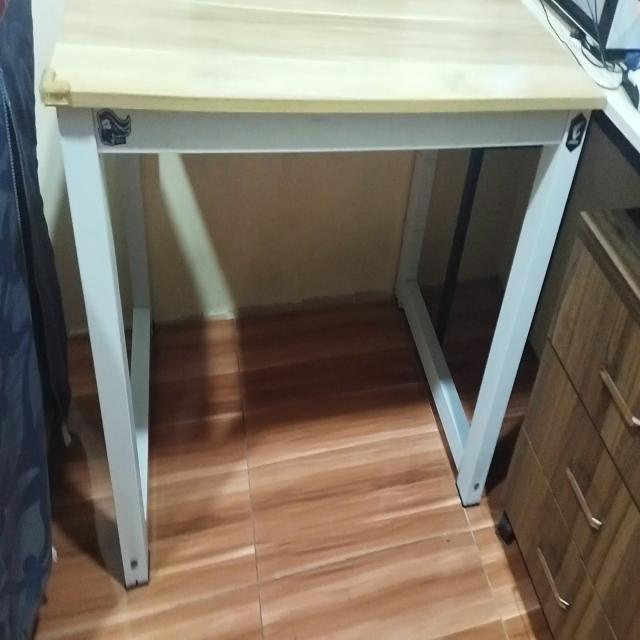table: (27, 0, 608, 571)
